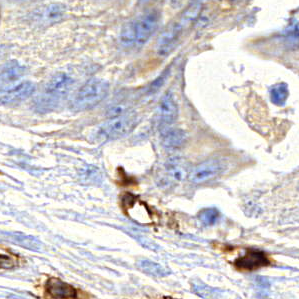Lymphocyte: (229, 244, 272, 271)
